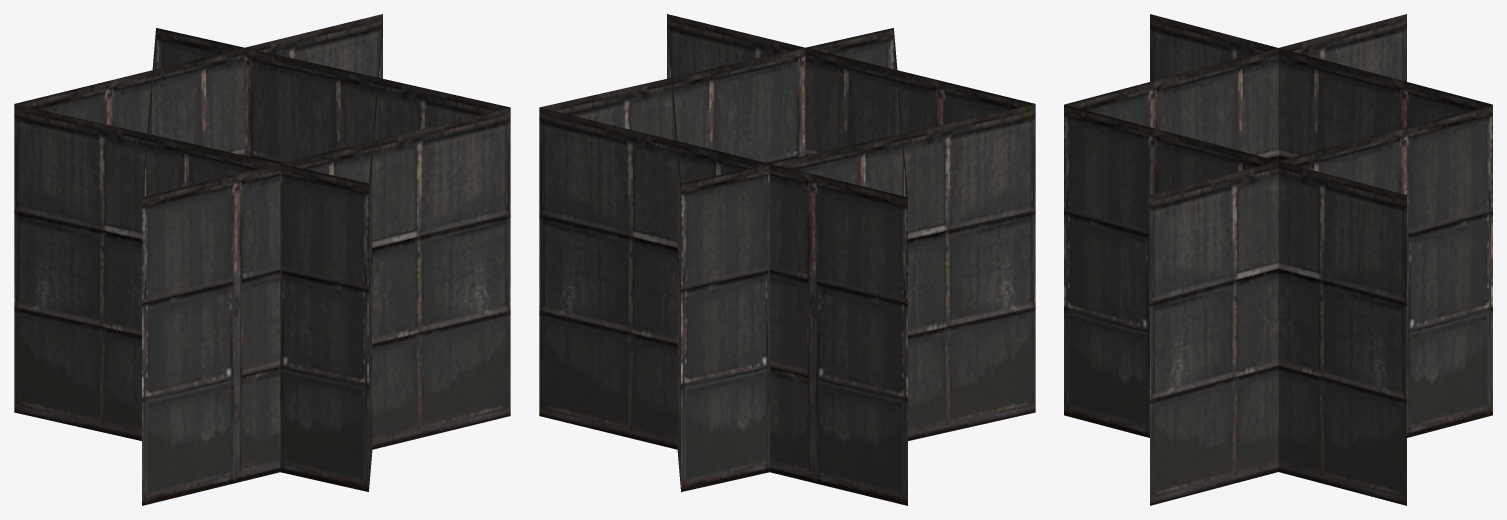
Rendered from Fence.fbx.
The picture shows the model from 3 angles, left to right: view 1: azimuth 30°, elevation 25°; view 2: azimuth 150°, elevation 25°; view 3: azimuth 270°, elevation 25°; orthographic projection.
Parts seen in each view (by area): view 1: Fence.001; view 2: Fence.001; view 3: Fence.001.
Part boxes in pixels (x1=…): Fence.001: x1=14, y1=14, x2=510, y2=505; Fence.001: x1=539, y1=14, x2=1035, y2=505; Fence.001: x1=1064, y1=14, x2=1492, y2=505.
Bounding box in the file's own units: 0.816 × 0.6528 × 0.8159.
Materials: 1 (1 with a texture image).
